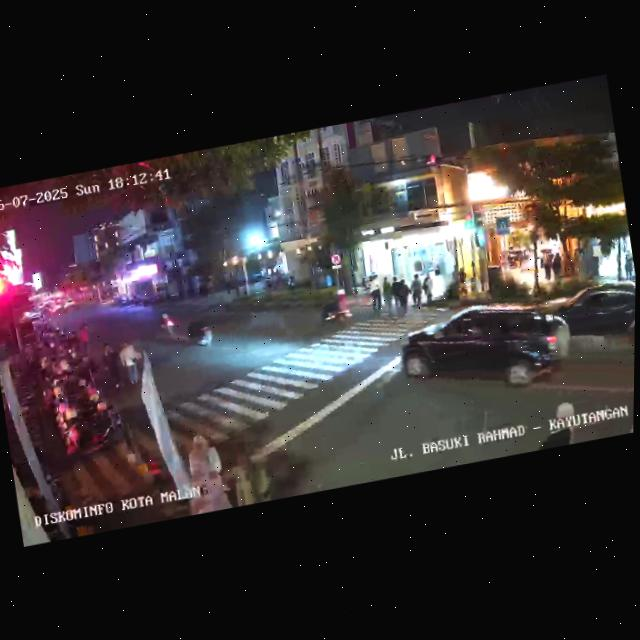car: (395, 289, 572, 410), (553, 280, 636, 360)
motorcycle: (316, 288, 355, 329), (184, 316, 218, 353), (156, 307, 179, 339)
person: (178, 425, 230, 515), (217, 440, 265, 507), (543, 399, 578, 447), (102, 344, 129, 397), (119, 341, 145, 391), (393, 276, 413, 318), (76, 320, 96, 361), (367, 278, 386, 316), (380, 276, 397, 316), (408, 273, 426, 310), (420, 271, 436, 307), (550, 250, 566, 282), (540, 250, 554, 284), (625, 251, 636, 280)
